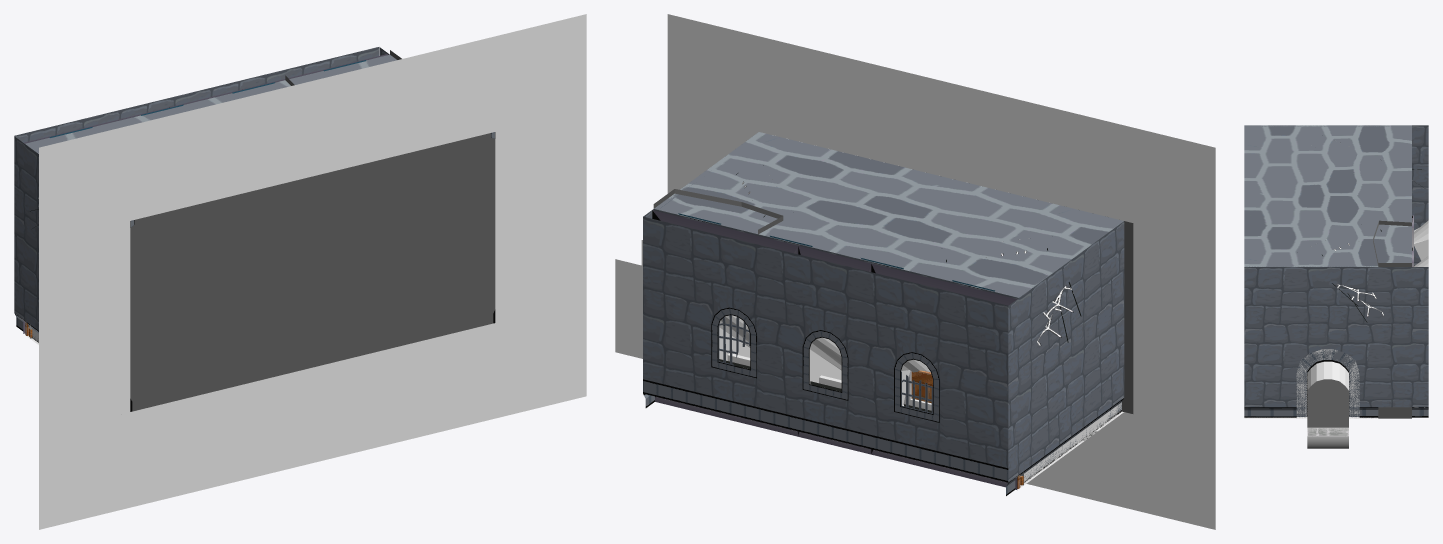
File: gon_12.dae
3 renders of one model, left to right at view 1: azimuth 30°, elevation 25°; view 2: azimuth 150°, elevation 25°; view 3: azimuth 270°, elevation 25°, orthographic. The views are drawn at different scales.
Visible parts, largest first — view 1: kuro4, polySurface810_q00029, polySurface84_q00133_part0, polySurface919_part0, polySurface7_q00138; view 2: kuro4, polySurface919_part0, polySurface7_q00138, polySurface84_q00133_part0, a_kabeushi, polySurface919_part1, polySurface919_part3, polySurface805_q00031, polySurface890_q00128, polySurface810_q00029, polySurface919_part2, polySurface84_q00024 (+1 smaller); view 3: polySurface7_q00138, polySurface84_q00134_part0, polySurface84_q00134_part1, polySurface787_q00107, polySurface84_q00133_part0, polySurface84_q00025, polySurface408_q00106_part0, polySurface402_q00030, pCube166_q00033, polySurface890_q00128, polySurface408_q00106_part1.
Boxes of the visible parts, x1=… form: kuro4: x1=39, y1=14, x2=586, y2=529; polySurface810_q00029: x1=130, y1=133, x2=495, y2=411; polySurface84_q00133_part0: x1=14, y1=136, x2=38, y2=330; polySurface919_part0: x1=14, y1=47, x2=379, y2=142; polySurface7_q00138: x1=25, y1=54, x2=396, y2=153; kuro4: x1=667, y1=14, x2=1215, y2=529; polySurface919_part0: x1=643, y1=216, x2=1008, y2=468; polySurface7_q00138: x1=654, y1=132, x2=1123, y2=297; polySurface84_q00133_part0: x1=1008, y1=221, x2=1124, y2=482; a_kabeushi: x1=652, y1=210, x2=1019, y2=489; polySurface919_part1: x1=643, y1=379, x2=1008, y2=482; polySurface919_part3: x1=711, y1=307, x2=939, y2=422; polySurface805_q00031: x1=615, y1=240, x2=642, y2=358; polySurface890_q00128: x1=719, y1=315, x2=930, y2=405; polySurface810_q00029: x1=1122, y1=221, x2=1133, y2=413; polySurface919_part2: x1=718, y1=315, x2=932, y2=413; polySurface84_q00024: x1=1020, y1=402, x2=1121, y2=485; polySurface7_q00138: x1=1244, y1=125, x2=1411, y2=266; polySurface84_q00134_part0: x1=1244, y1=267, x2=1428, y2=407; polySurface84_q00134_part1: x1=1244, y1=349, x2=1428, y2=417; polySurface787_q00107: x1=1307, y1=379, x2=1348, y2=427; polySurface84_q00133_part0: x1=1412, y1=125, x2=1428, y2=265; polySurface84_q00025: x1=1296, y1=349, x2=1359, y2=416; polySurface408_q00106_part0: x1=1307, y1=361, x2=1348, y2=390; polySurface402_q00030: x1=1307, y1=427, x2=1348, y2=448; pCube166_q00033: x1=1373, y1=240, x2=1411, y2=418; polySurface890_q00128: x1=1414, y1=220, x2=1428, y2=266; polySurface408_q00106_part1: x1=1307, y1=428, x2=1348, y2=436.
Bounding box in the file's own units: 60 × 40 × 22.
